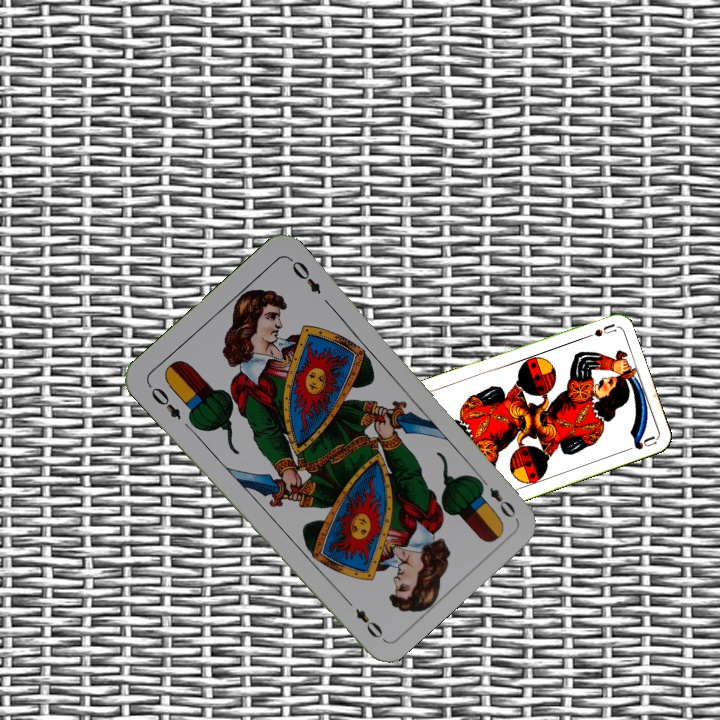EO: (474, 472, 519, 521), (144, 380, 184, 422)
SU: (577, 320, 617, 342)
